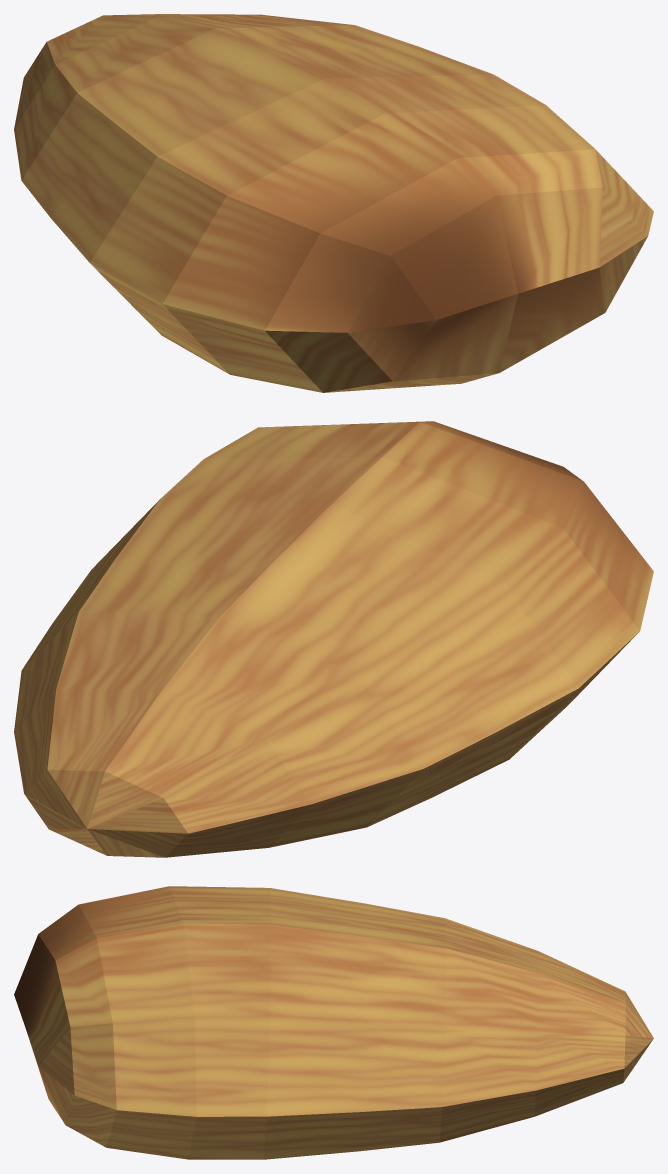
File: almond.fbx
The picture shows the model from 3 angles, top to bottom: view 1: azimuth 30°, elevation 25°; view 2: azimuth 150°, elevation 25°; view 3: azimuth 270°, elevation 25°; orthographic projection. The views are drawn at different scales.
Visible parts, largest first — view 1: almond; view 2: almond; view 3: almond.
Boxes of the visible parts, x1,y1,x2,y2 form: almond: (14, 14, 653, 392); almond: (14, 421, 653, 857); almond: (14, 886, 653, 1159).
Size of the model in its own units: 4.04 by 2.03 by 5.83.
